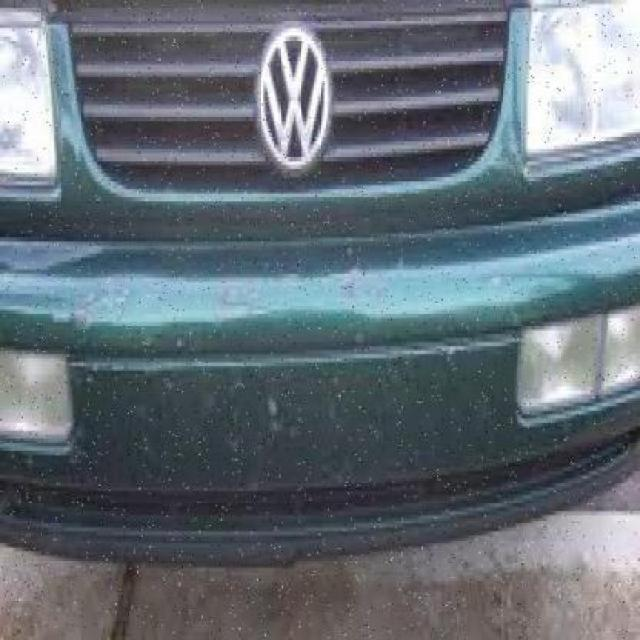front-bumper-dent: (0, 165, 638, 604)
